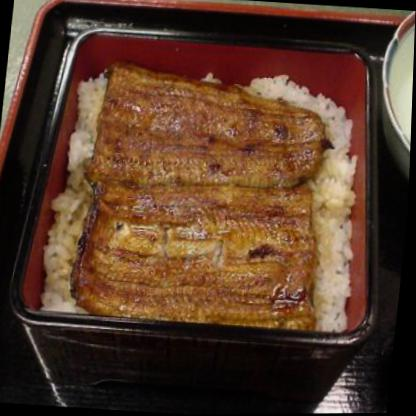eel: (70, 55, 340, 339)
